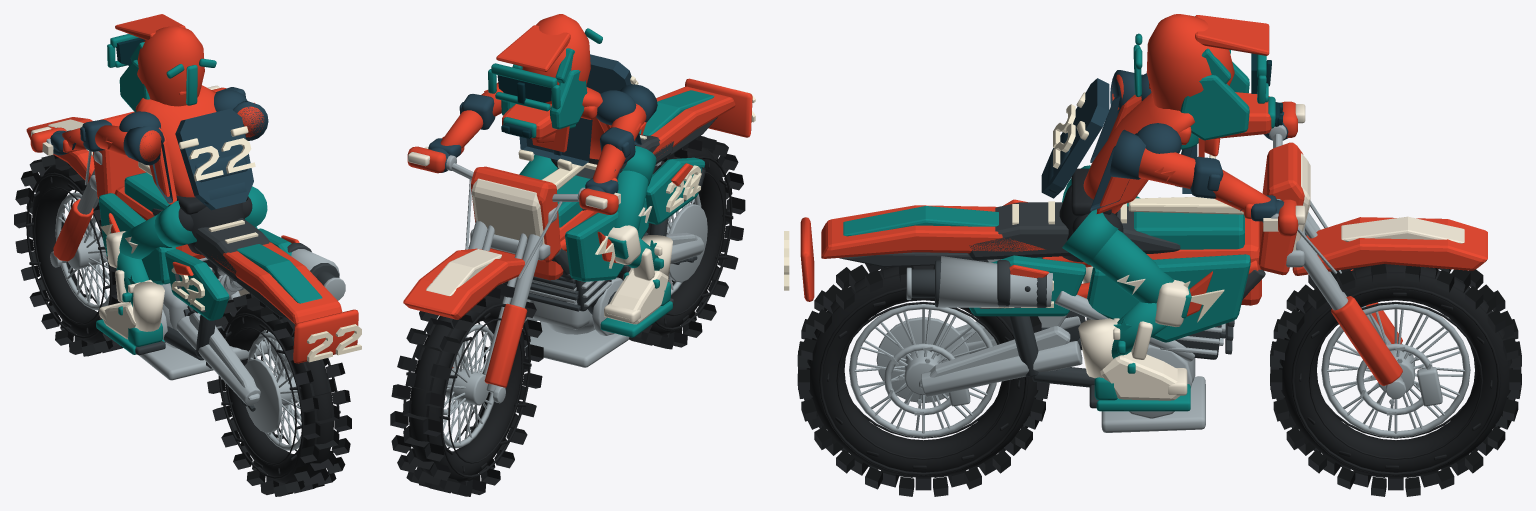
The model's file is hero-bike-rider-raw.glb.
The picture shows the model from 3 angles, left to right: view 1: azimuth 30°, elevation 25°; view 2: azimuth 150°, elevation 25°; view 3: azimuth 270°, elevation 25°; orthographic projection. The views are drawn at different scales.
Visible parts, largest first — view 1: RearWheel_Rubber, FrontWheel_Rubber, BikeStatic_PlasticTeal, RiderTorso_RiderArmor, BikeStatic_PlasticCoral, RiderHead_PlasticCoral, BikeStatic_MetalDark, BikeSteering_PlasticCoral, RiderLeftLeg_PlasticTeal, RearWheel_MetalBright, RearSuspension_MetalBright, BikeStatic_MetalBright (+15 smaller); view 2: FrontWheel_Rubber, BikeSteering_PlasticCoral, RearWheel_Rubber, BikeStatic_PlasticTeal, BikeSteering_PlateCream, BikeStatic_MetalBright, BikeStatic_PlasticCoral, RiderHead_PlasticCoral, BikeSteering_MetalBright, RiderLeftLeg_PlateCream, RiderLeftLeg_PlasticTeal, RiderHead_PlasticTeal (+13 smaller); view 3: FrontWheel_Rubber, RearWheel_Rubber, BikeStatic_PlasticTeal, BikeSteering_PlasticCoral, BikeStatic_MetalDark, RearWheel_MetalBright, BikeStatic_PlasticCoral, BikeStatic_MetalBright, RiderHead_PlasticCoral, FrontWheel_MetalBright, RiderRightLeg_PlasticTeal, RiderRightLeg_PlateCream (+11 smaller).
Boxes of the visible parts, x1=… form: RearWheel_Rubber: x1=206, y1=293, x2=351, y2=496; FrontWheel_Rubber: x1=14, y1=154, x2=130, y2=356; BikeStatic_PlasticTeal: x1=98, y1=172, x2=322, y2=320; RiderTorso_RiderArmor: x1=119, y1=90, x2=253, y2=210; BikeStatic_PlasticCoral: x1=108, y1=186, x2=358, y2=363; RiderHead_PlasticCoral: x1=115, y1=14, x2=204, y2=106; BikeStatic_MetalDark: x1=114, y1=208, x2=338, y2=411; BikeSteering_PlasticCoral: x1=26, y1=87, x2=226, y2=261; RiderLeftLeg_PlasticTeal: x1=96, y1=200, x2=196, y2=354; RearWheel_MetalBright: x1=244, y1=333, x2=301, y2=450; RearSuspension_MetalBright: x1=176, y1=274, x2=291, y2=405; BikeStatic_MetalBright: x1=116, y1=249, x2=345, y2=380; FrontWheel_Rubber: x1=390, y1=284, x2=543, y2=496; BikeSteering_PlasticCoral: x1=403, y1=146, x2=618, y2=387; RearWheel_Rubber: x1=617, y1=135, x2=745, y2=349; BikeStatic_PlasticTeal: x1=557, y1=90, x2=714, y2=281; BikeSteering_PlateCream: x1=408, y1=146, x2=620, y2=296; BikeStatic_MetalBright: x1=507, y1=277, x2=629, y2=367; BikeStatic_PlasticCoral: x1=534, y1=78, x2=752, y2=280; RiderHead_PlasticCoral: x1=496, y1=14, x2=590, y2=139; BikeSteering_MetalBright: x1=446, y1=155, x2=585, y2=403; RiderLeftLeg_PlateCream: x1=604, y1=206, x2=672, y2=324; RiderLeftLeg_PlasticTeal: x1=600, y1=146, x2=672, y2=337; RiderHead_PlasticTeal: x1=488, y1=28, x2=602, y2=137; FrontWheel_Rubber: x1=1270, y1=264, x2=1521, y2=496; RearWheel_Rubber: x1=797, y1=263, x2=1049, y2=496; BikeStatic_PlasticTeal: x1=843, y1=206, x2=1250, y2=342; BikeSteering_PlasticCoral: x1=1258, y1=101, x2=1487, y2=385; BikeStatic_MetalDark: x1=839, y1=202, x2=1265, y2=408; RearWheel_MetalBright: x1=849, y1=304, x2=996, y2=437; BikeStatic_PlasticCoral: x1=800, y1=199, x2=1261, y2=316; BikeStatic_MetalBright: x1=906, y1=256, x2=1225, y2=432; RiderHead_PlasticCoral: x1=1146, y1=14, x2=1271, y2=138; FrontWheel_MetalBright: x1=1321, y1=304, x2=1470, y2=437; RiderRightLeg_PlasticTeal: x1=1062, y1=209, x2=1191, y2=411; RiderRightLeg_PlateCream: x1=1078, y1=275, x2=1189, y2=400.
Size of the model in its own units: 1.4 by 2.58 by 3.69.
